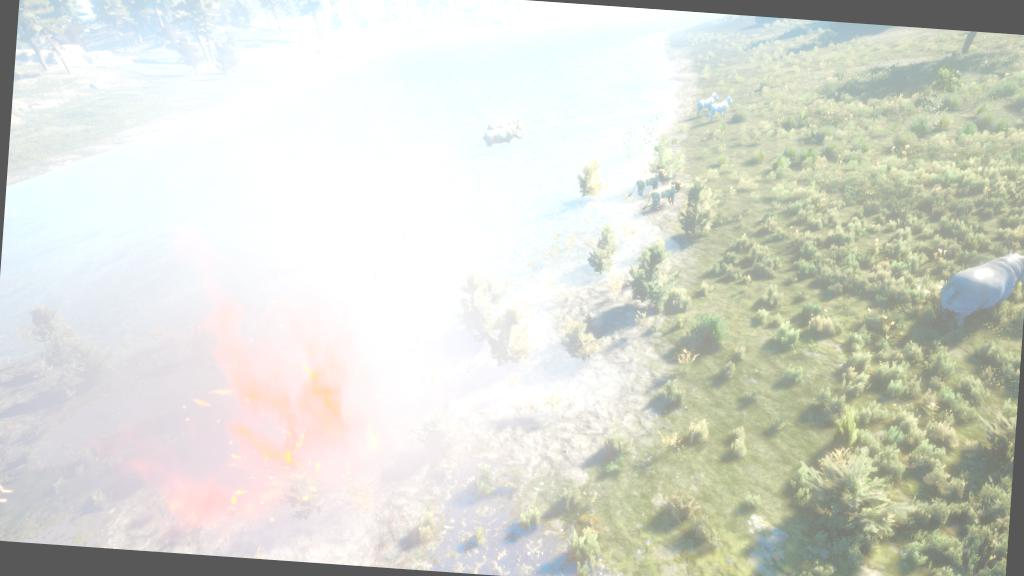Fire: (120, 274, 384, 540)
hippopotamus: (931, 238, 1023, 331)
human: (0, 449, 31, 514), (360, 246, 388, 296), (389, 212, 415, 252), (300, 229, 326, 266)
lion: (644, 175, 688, 213), (630, 164, 668, 199)
rhinoceros: (478, 122, 528, 152), (484, 112, 530, 136)
smoke: (57, 136, 479, 571)
zebra: (686, 89, 722, 116), (704, 92, 737, 121)
